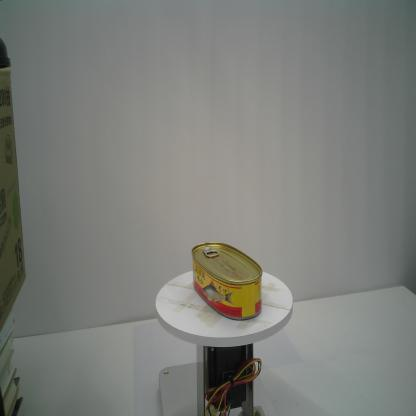Canned Food: (191, 240, 263, 322)
